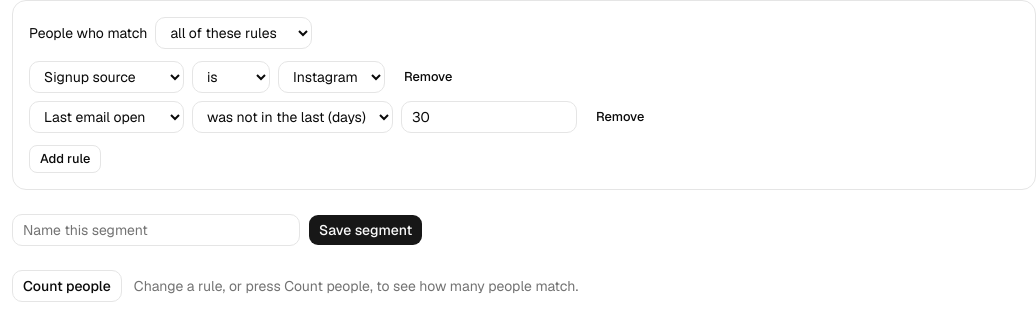
Scenario: SegmentBuilder › shows why a save was refused
Click the button "Save segment" at (366, 230), box [308,214,423,246]
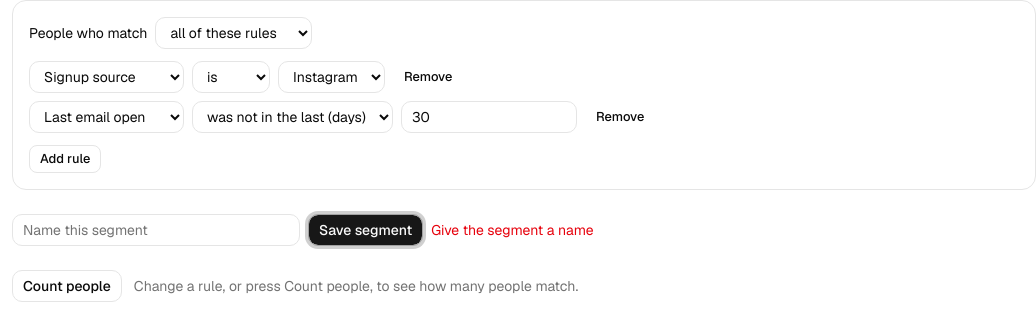
Now the text "Give the segment a name" is shown, box [431,220,594,240]
